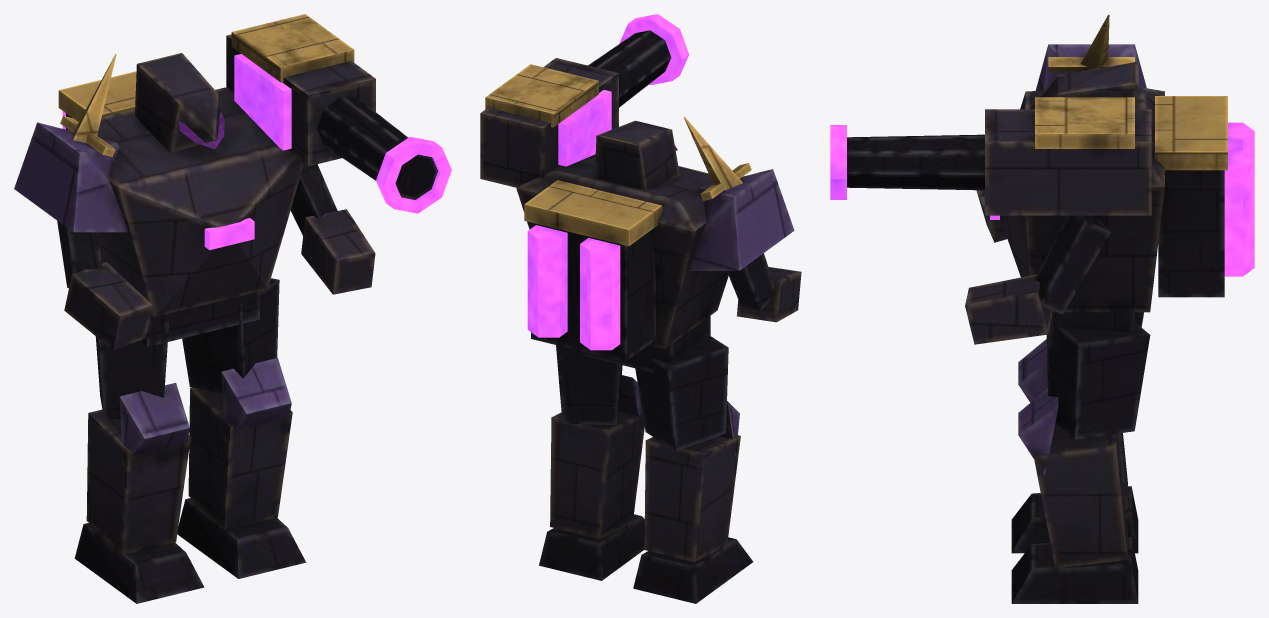
File: e_gunner.glb
The picture shows the model from 3 angles, left to right: view 1: azimuth 30°, elevation 25°; view 2: azimuth 150°, elevation 25°; view 3: azimuth 270°, elevation 25°; orthographic projection. The views are drawn at different scales.
Visible parts, largest first — view 1: e_gunner; view 2: e_gunner; view 3: e_gunner.
Boxes of the visible parts, x1,y1,x2,y2 form: e_gunner: [14, 14, 451, 603]; e_gunner: [480, 14, 801, 603]; e_gunner: [830, 15, 1254, 603].
Size of the model in its own units: 1.12 by 1.93 by 1.43.
1 material, 1 textured.
